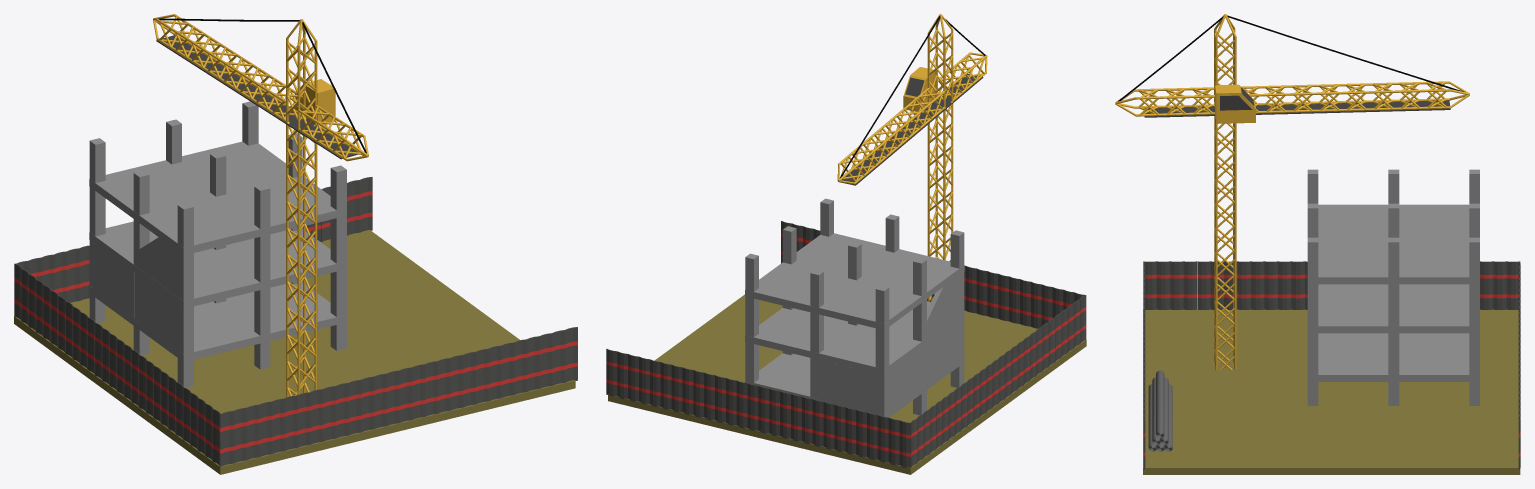
Rendered from lahan.fbx.
The picture shows the model from 3 angles, left to right: view 1: azimuth 30°, elevation 25°; view 2: azimuth 150°, elevation 25°; view 3: azimuth 270°, elevation 25°; orthographic projection. The views are drawn at different scales.
Parts seen in each view (by area): view 1: gedung, dasar, Cube.010, crane, Cube.003, Cube.017; view 2: gedung, Cube.017, dasar, crane, Cube.003, Cube.010; view 3: dasar, gedung, crane, Cube.003, Cube.017, Cube.010, Cylinder.005.
Part boxes in pixels (x1,y1,x2,y2): gedung: [89, 101, 346, 387]; dasar: [14, 230, 575, 474]; Cube.010: [221, 327, 577, 466]; crane: [153, 14, 368, 397]; Cube.003: [14, 263, 220, 466]; Cube.017: [16, 177, 372, 302]; gedung: [745, 198, 964, 417]; Cube.017: [606, 349, 910, 468]; dasar: [608, 294, 1086, 474]; crane: [837, 14, 987, 301]; Cube.003: [910, 295, 1086, 467]; Cube.010: [781, 221, 1084, 328]; dasar: [1143, 309, 1520, 474]; gedung: [1307, 169, 1479, 405]; crane: [1115, 14, 1469, 370]; Cube.003: [1143, 261, 1520, 309]; Cube.017: [1518, 261, 1520, 469]; Cube.010: [1143, 262, 1145, 469]; Cylinder.005: [1156, 370, 1164, 438].
Size of the model in its own units: 1403 by 1469 by 1505.
